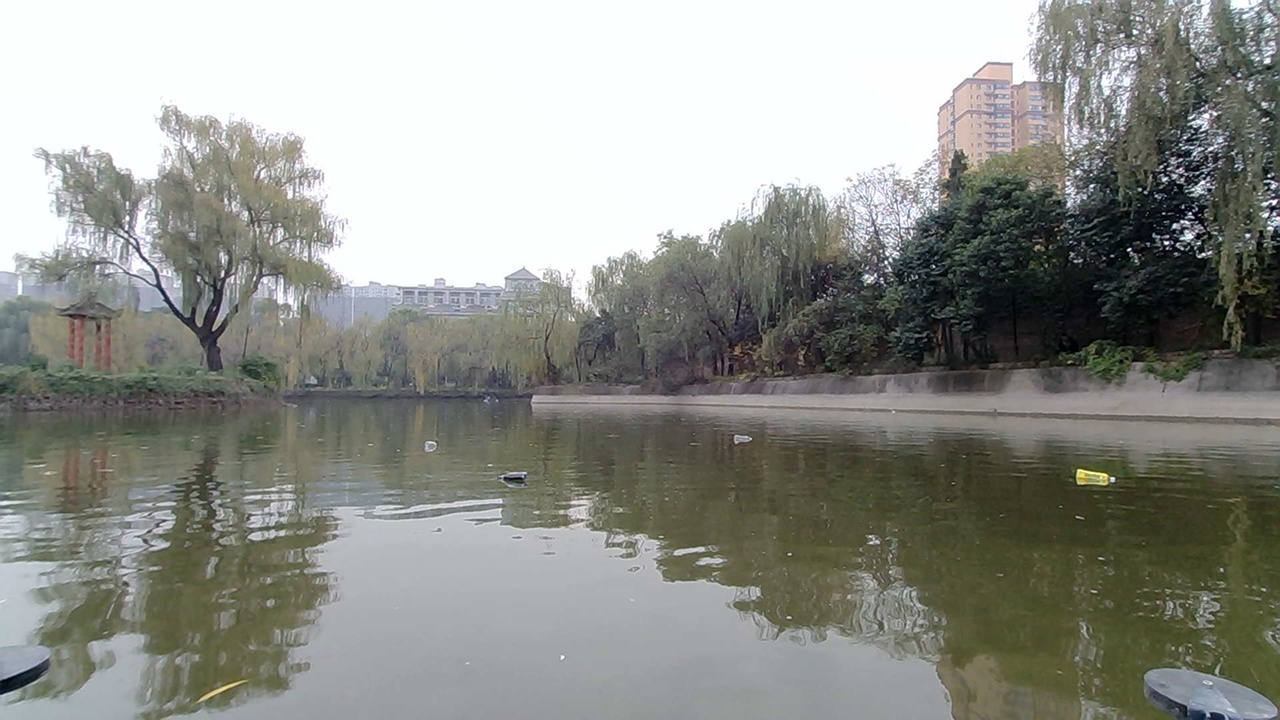bottle: (493, 461, 549, 499), (1070, 460, 1114, 494), (410, 437, 455, 466), (722, 421, 759, 444)
